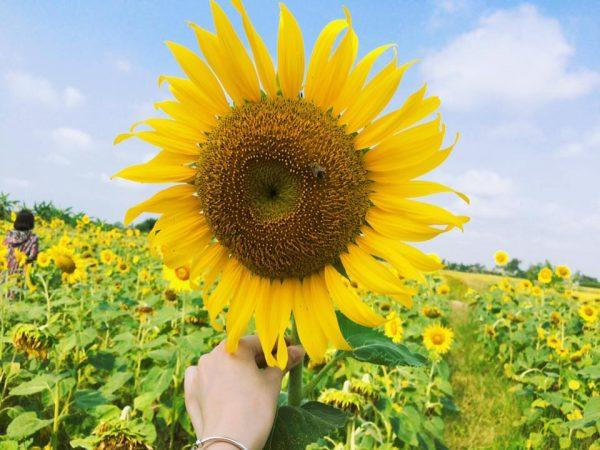sunflower: (109, 0, 471, 371)
